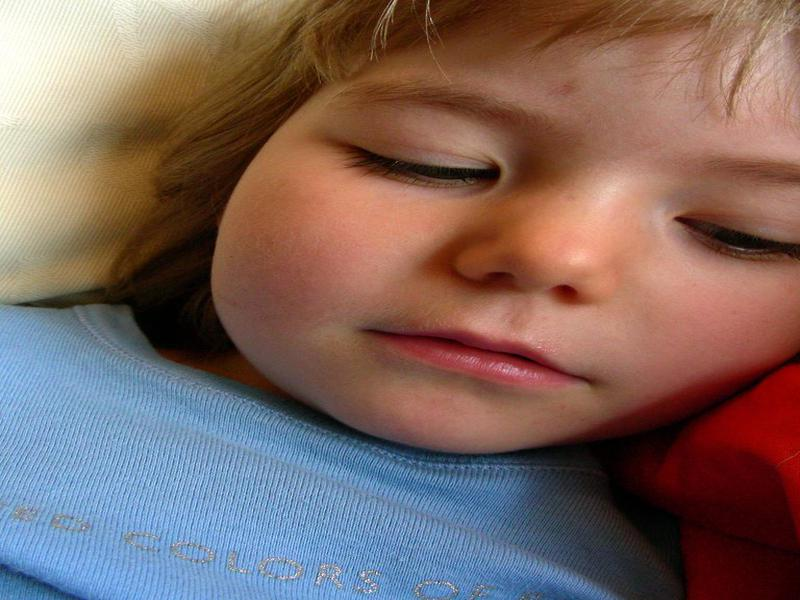person: (26, 1, 800, 600)
